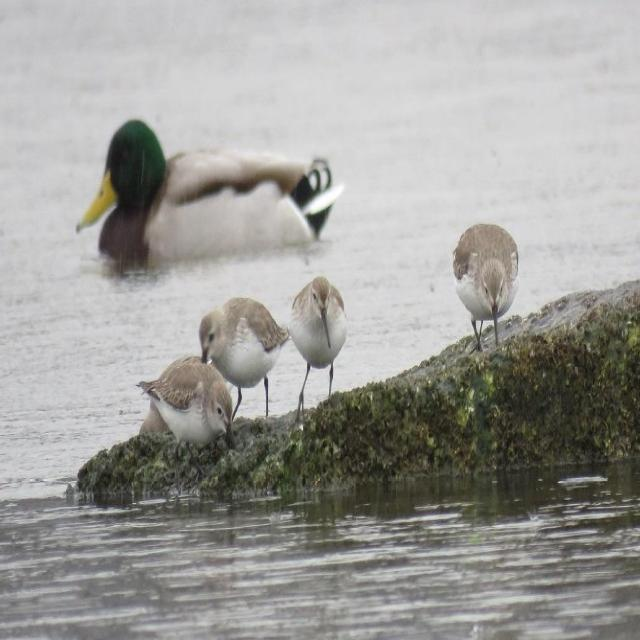bird: (80, 121, 344, 276), (194, 300, 302, 422), (136, 351, 238, 462), (451, 225, 519, 352), (286, 280, 348, 403)
